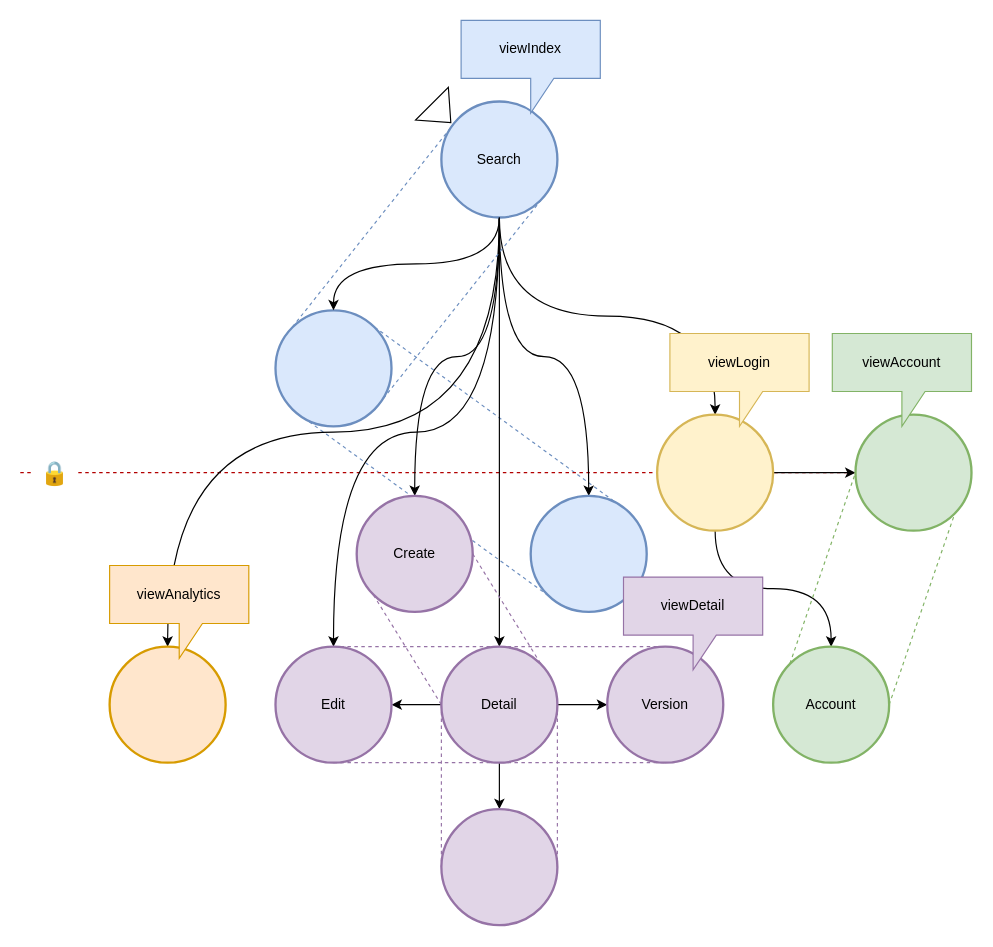
The diagram is 993 pixels wide and 947 high, and some of its shapes have lost their labels. Here are the shapes that lost their labels. From the top down, the centre of each, then its label:
pixel 333 368: Results
pixel 714 472: Login
pixel 913 472: Registration
pixel 588 553: Download
pixel 167 704: Analytics
pixel 499 866: Delete
